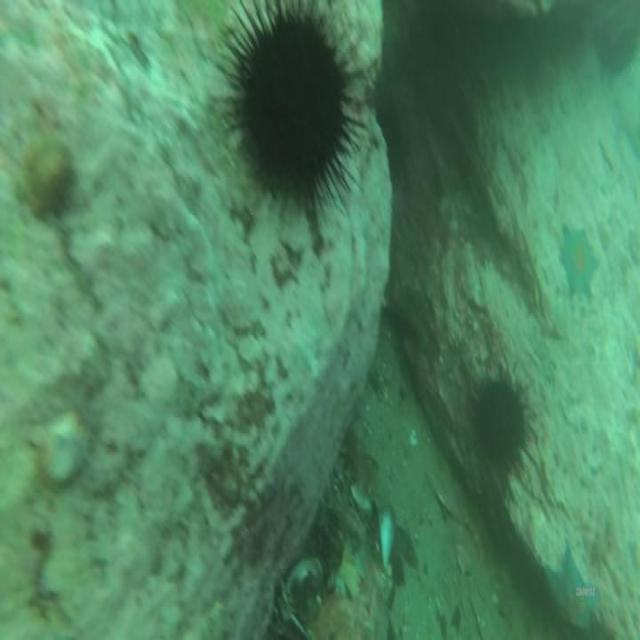echinus: (239, 17, 349, 199), (476, 378, 526, 466)
starfish: (544, 542, 597, 640), (561, 222, 598, 298)
